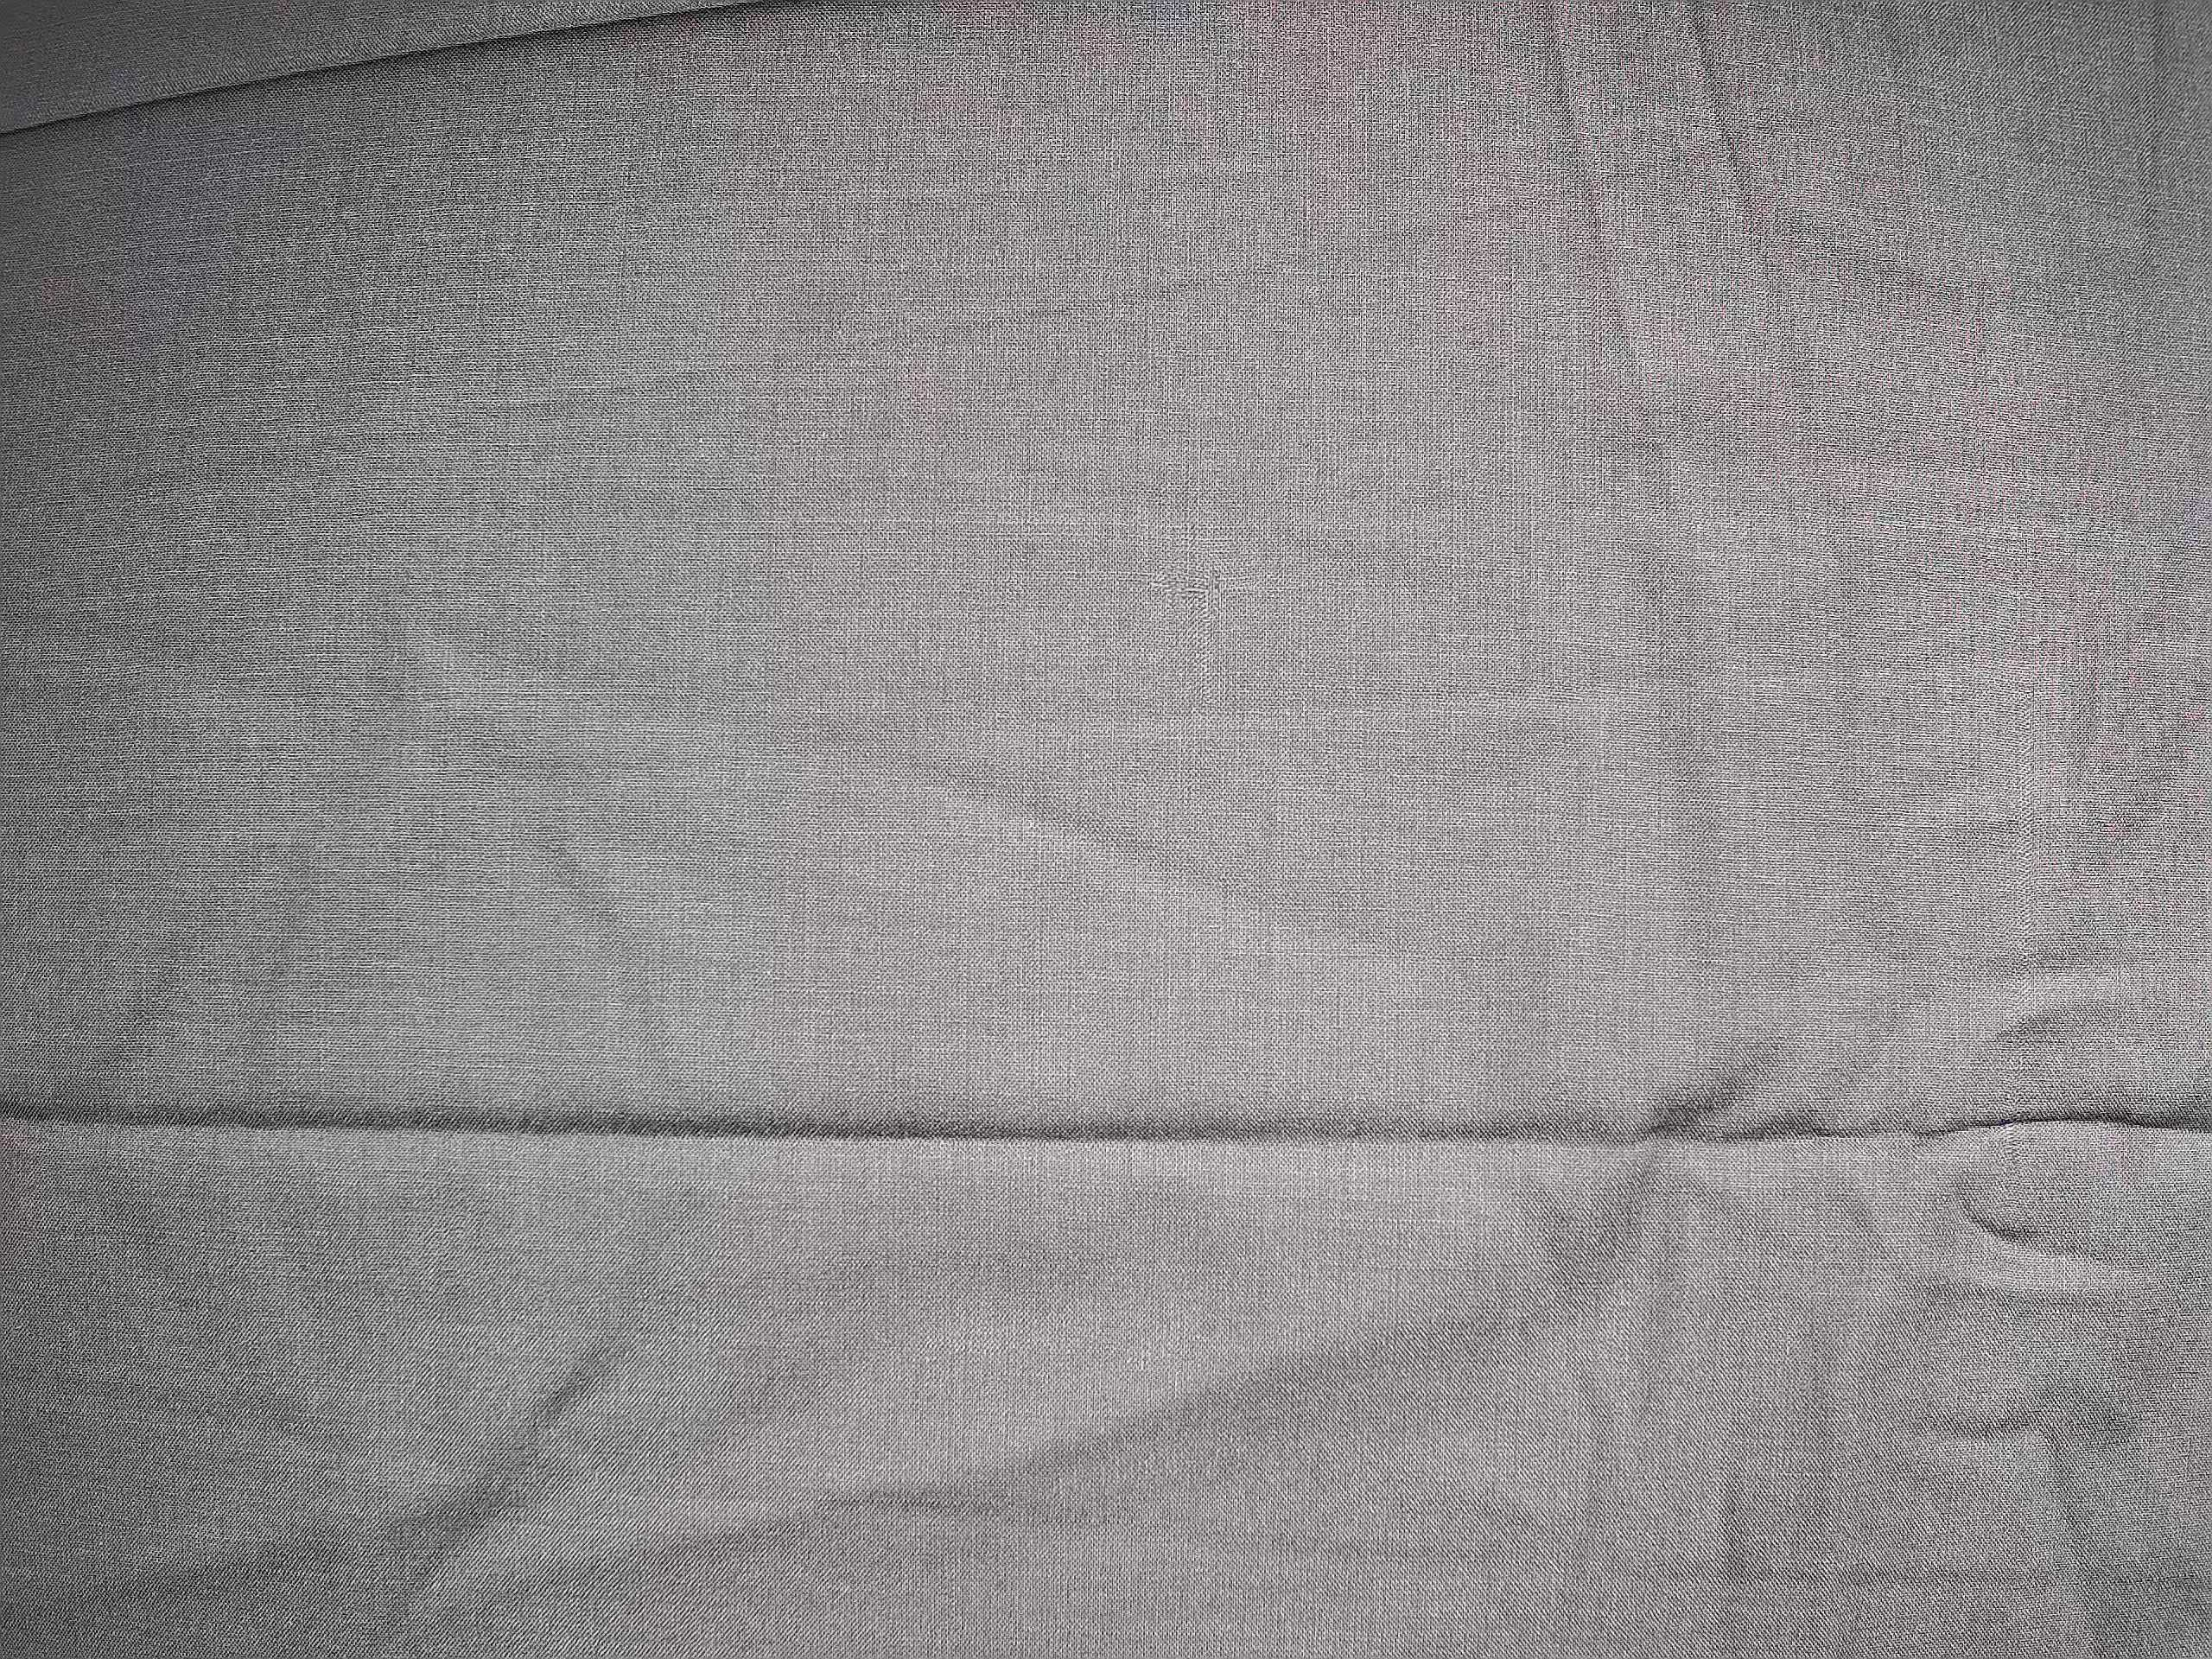hanging-warp: (1996, 653, 2041, 1243)
